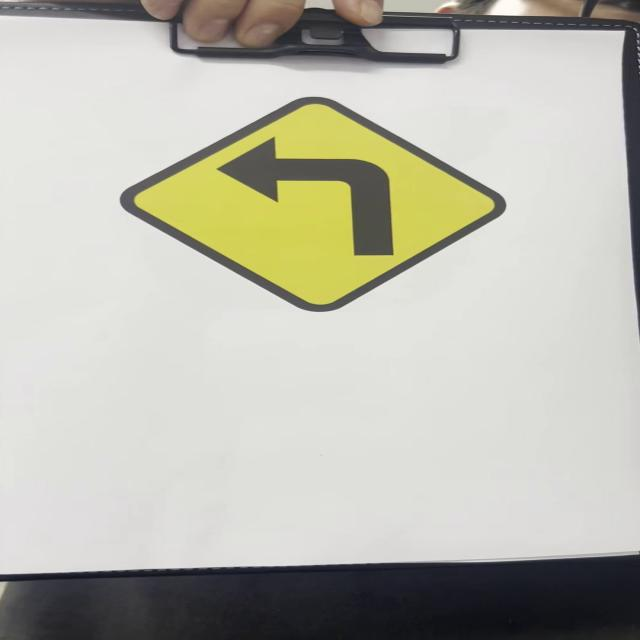left: (125, 92, 505, 314)
